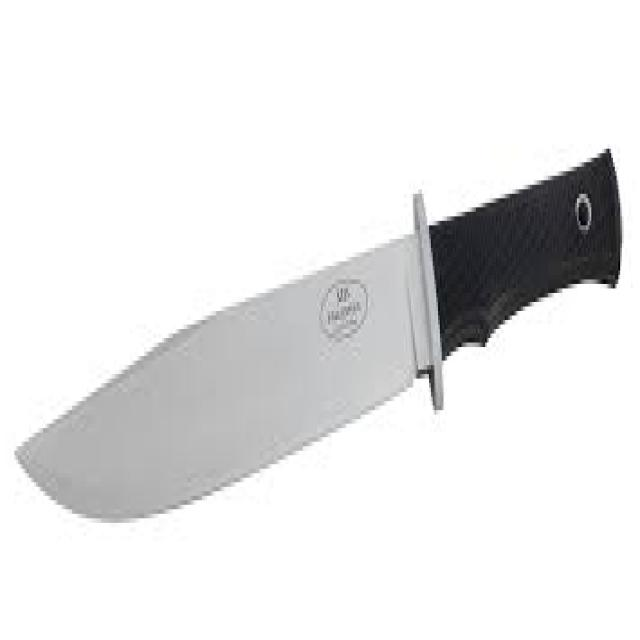knife: (11, 136, 628, 542)
